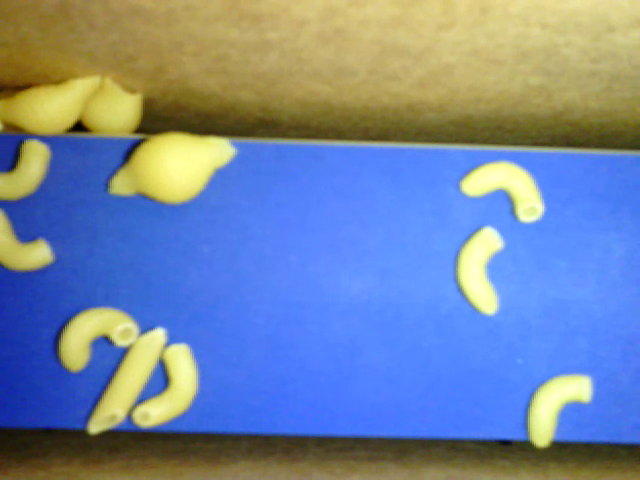elbow: (457, 158, 546, 225), (131, 343, 201, 428), (57, 305, 140, 373), (525, 372, 595, 450), (457, 224, 503, 319), (1, 204, 60, 272), (1, 137, 53, 201)
penne: (90, 326, 169, 431)
shell: (107, 131, 240, 207), (1, 68, 103, 137), (81, 74, 144, 135)
